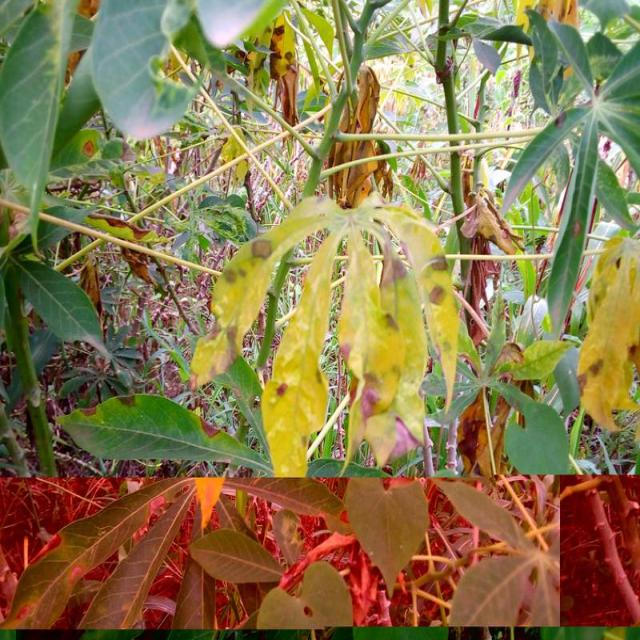cassava leaf: (191, 190, 460, 477), (342, 475, 430, 598)
